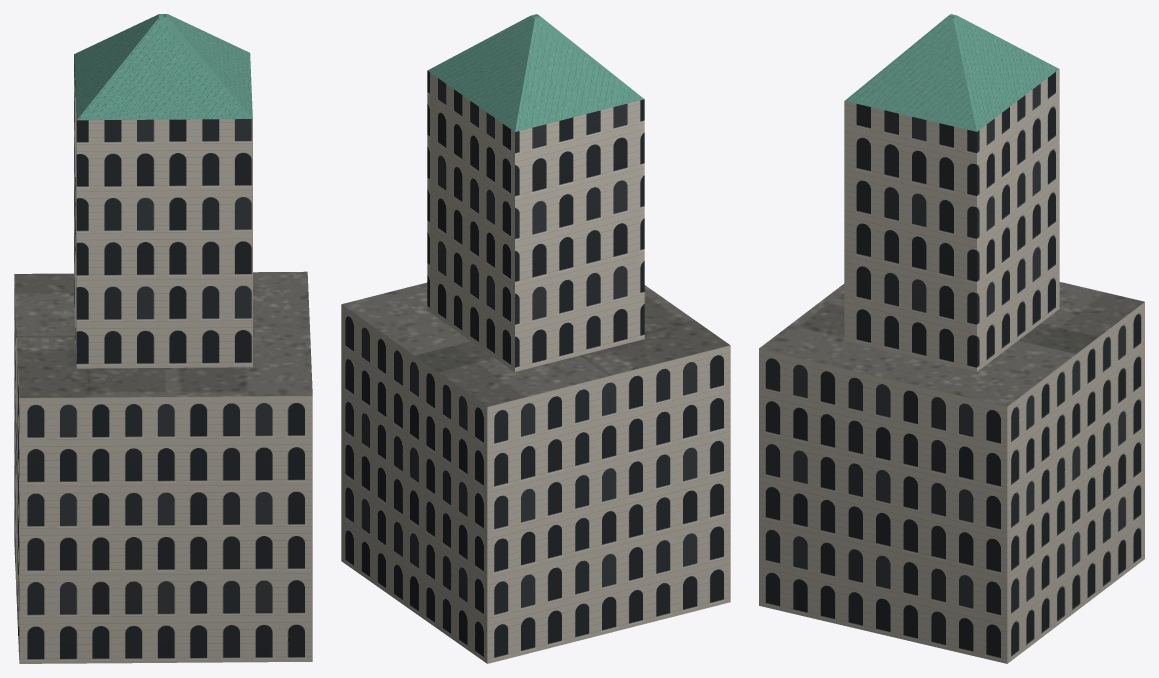
Rendered from steinway.glb.
3 renders of one model, left to right at view 1: azimuth 30°, elevation 25°; view 2: azimuth 150°, elevation 25°; view 3: azimuth 270°, elevation 25°, orthographic. The views are drawn at different scales.
Visible parts, largest first — view 1: steinway; view 2: steinway; view 3: steinway.
Part boxes in pixels (<box>): steinway: <box>14,14,312,663</box>; steinway: <box>341,14,730,663</box>; steinway: <box>759,14,1144,663</box>.
Size of the model in its own units: 40.78 by 66 by 40.78.
6 materials, 6 textured.
